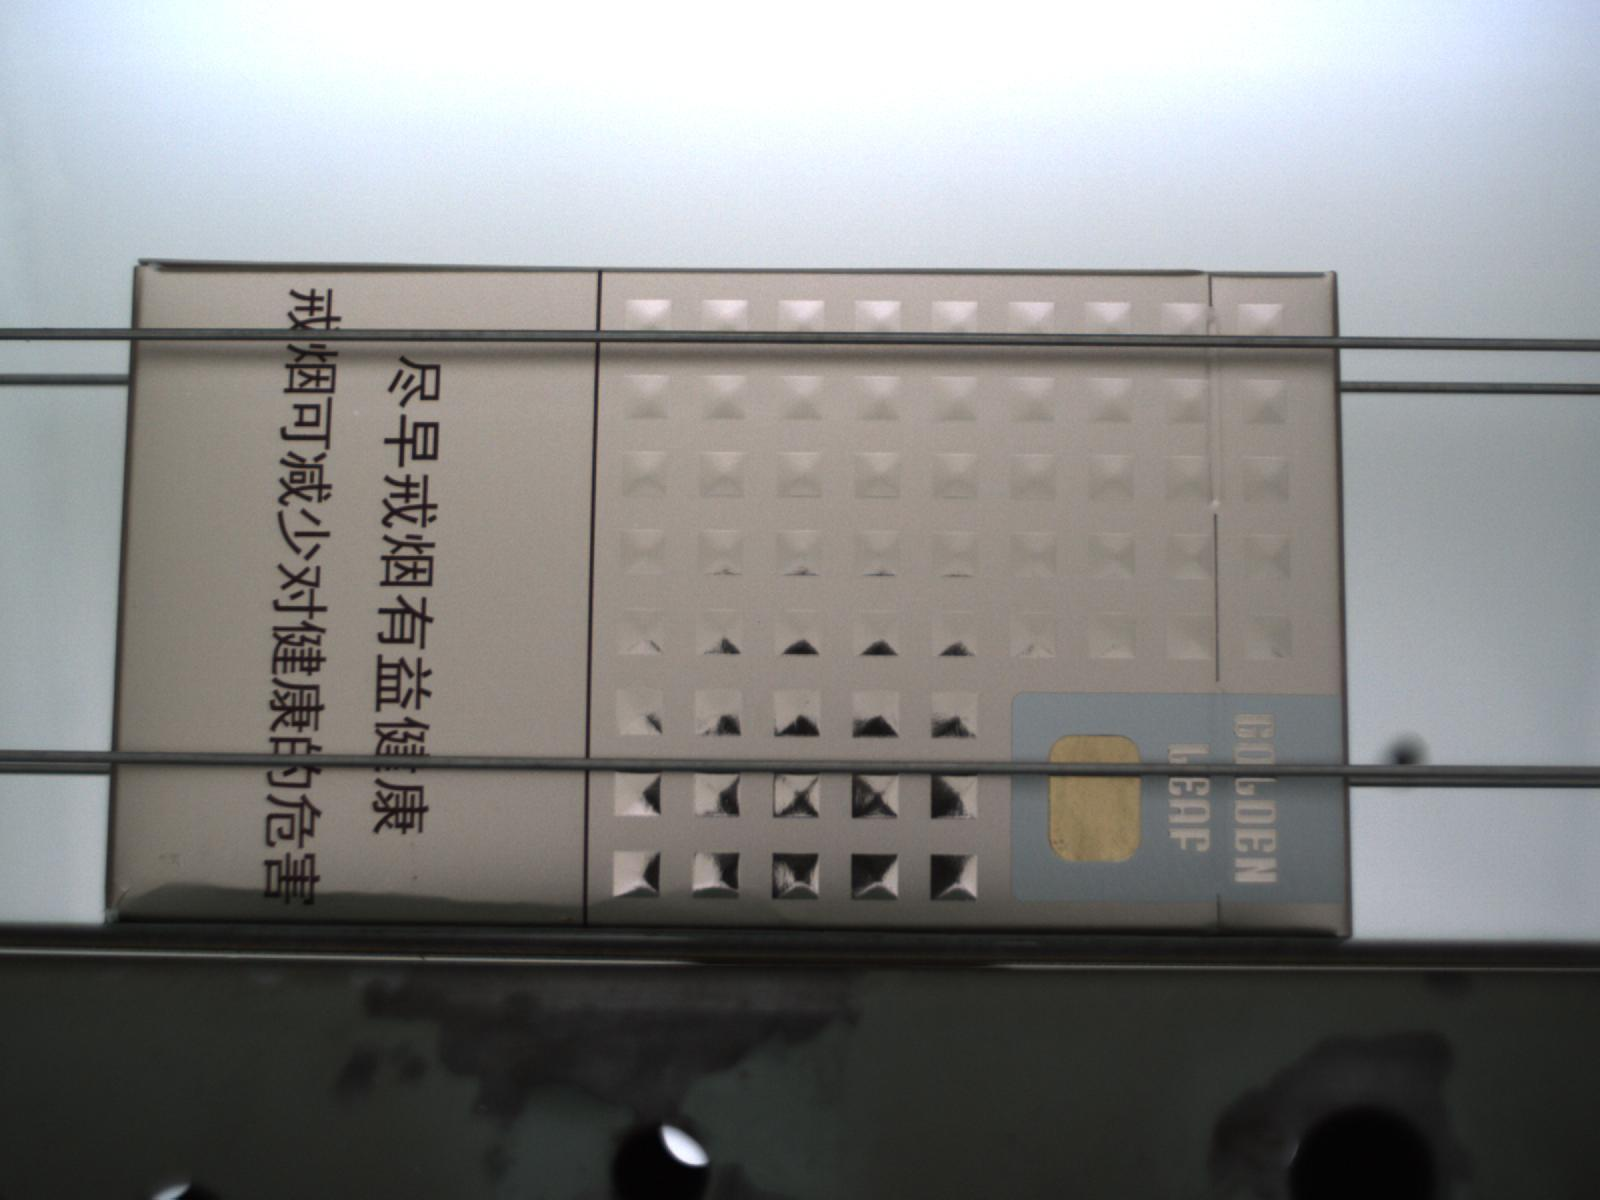dirtyPrint: (353, 407, 363, 417)
dirtyScratch: (94, 877, 820, 934)
skewed_upper_0: (100, 877, 156, 932)
